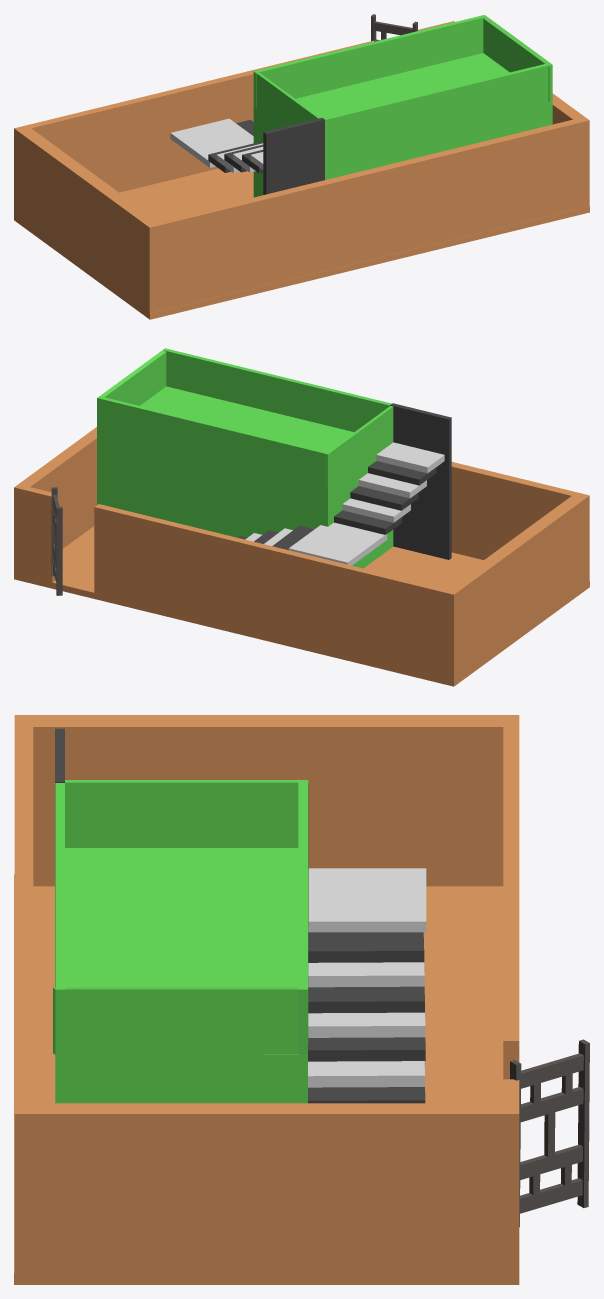
File: HomeModel.glb
3 views of the same model, one above another, from view 1: azimuth 30°, elevation 25°; view 2: azimuth 150°, elevation 25°; view 3: azimuth 270°, elevation 25° (orthographic). The views are drawn at different scales.
Visible parts, largest first — view 1: Cube, Cube.001, Cube.019, Cube.006, Cube.021; view 2: Cube, Cube.001, Cube.019, Cube.006, Cube.002, Cube.021, Cube.005, Cube.004, Cube.007, Cube.003, Cube.008; view 3: Cube, Cube.001, Cube.021, Cube.006, Cube.013, Cube.015, Cube.010, Cube.011, Cube.012, Cube.009, Cube.014, Cube.019.
Part boxes in pixels (x1,y1,x2,y2): Cube: [14, 21, 589, 319]; Cube.001: [253, 15, 552, 197]; Cube.019: [263, 117, 324, 194]; Cube.006: [170, 118, 253, 167]; Cube.021: [371, 14, 417, 41]; Cube: [14, 427, 589, 686]; Cube.001: [97, 348, 393, 568]; Cube.019: [390, 403, 451, 559]; Cube.006: [288, 522, 387, 565]; Cube.002: [376, 442, 444, 473]; Cube.021: [51, 487, 62, 595]; Cube.005: [358, 473, 426, 498]; Cube.004: [350, 486, 418, 510]; Cube.007: [334, 510, 402, 534]; Cube.003: [368, 461, 436, 485]; Cube.008: [342, 498, 410, 522]; Cube: [14, 715, 519, 1284]; Cube.001: [53, 779, 308, 1103]; Cube.021: [510, 1039, 589, 1227]; Cube.006: [308, 868, 426, 932]; Cube.013: [308, 932, 424, 962]; Cube.015: [308, 1061, 424, 1087]; Cube.010: [308, 986, 424, 1013]; Cube.011: [308, 1012, 425, 1037]; Cube.012: [308, 962, 424, 987]; Cube.009: [308, 1037, 425, 1061]; Cube.014: [308, 1087, 425, 1103]; Cube.019: [55, 728, 64, 987].
Size of the model in its own units: 29.89 by 9.52 by 18.23.
